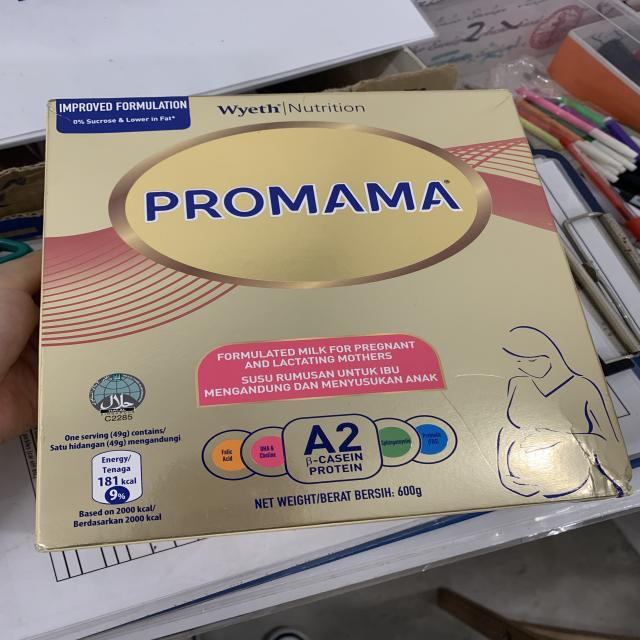object_name: (47, 101, 621, 527)
